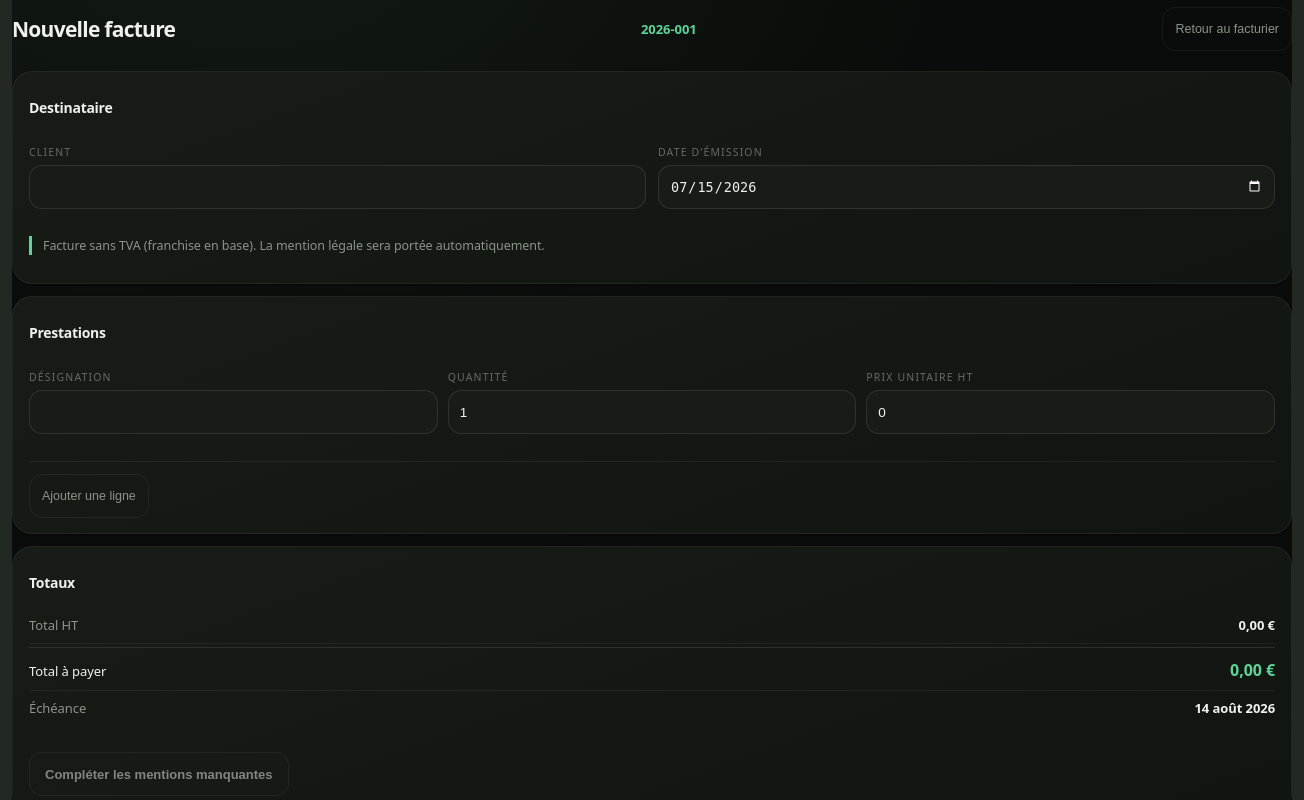
Test: mentions obligatoires › débloque l’émission dès que tout est là
The image size is (1304, 800).
In the field labelled "Client": (338, 187) [29, 165, 646, 209], type "Client France"
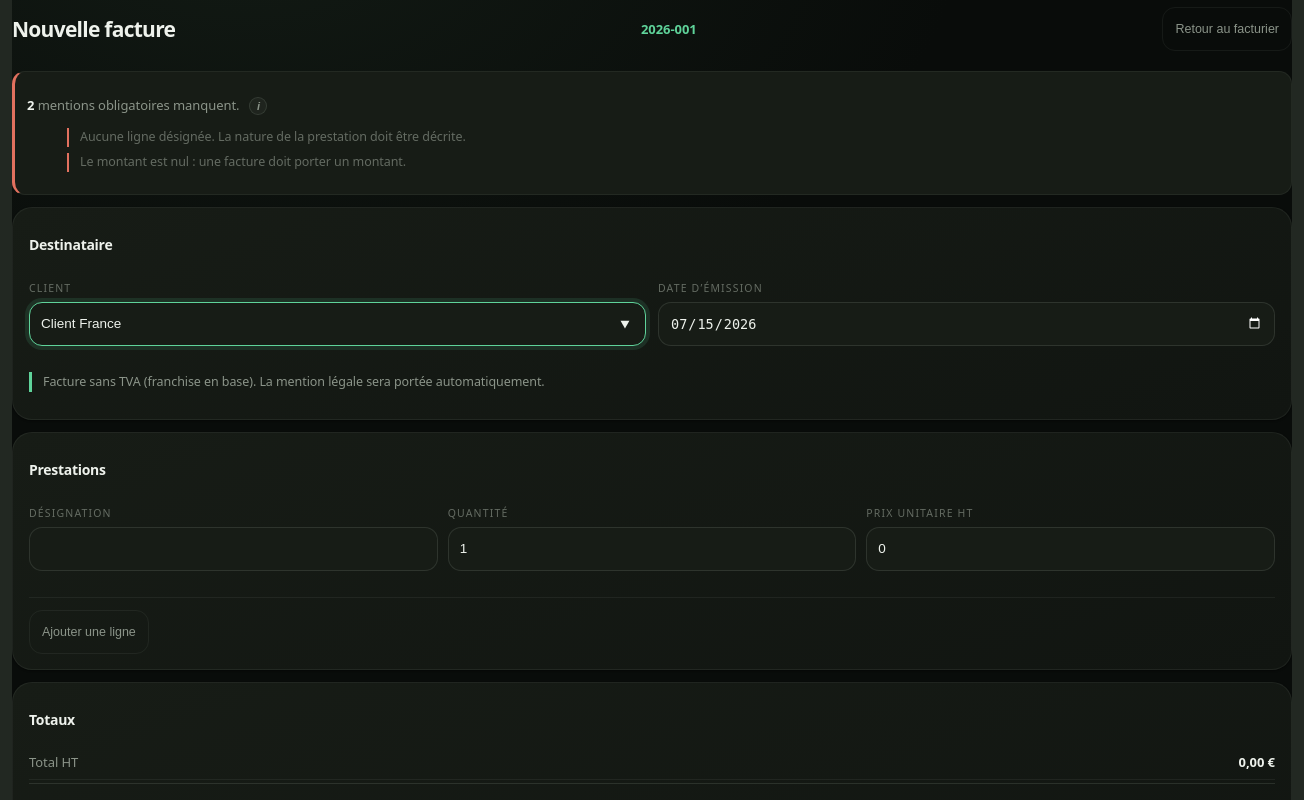
In the field labelled "Désignation": (233, 549) [29, 527, 438, 571], type "Développement"
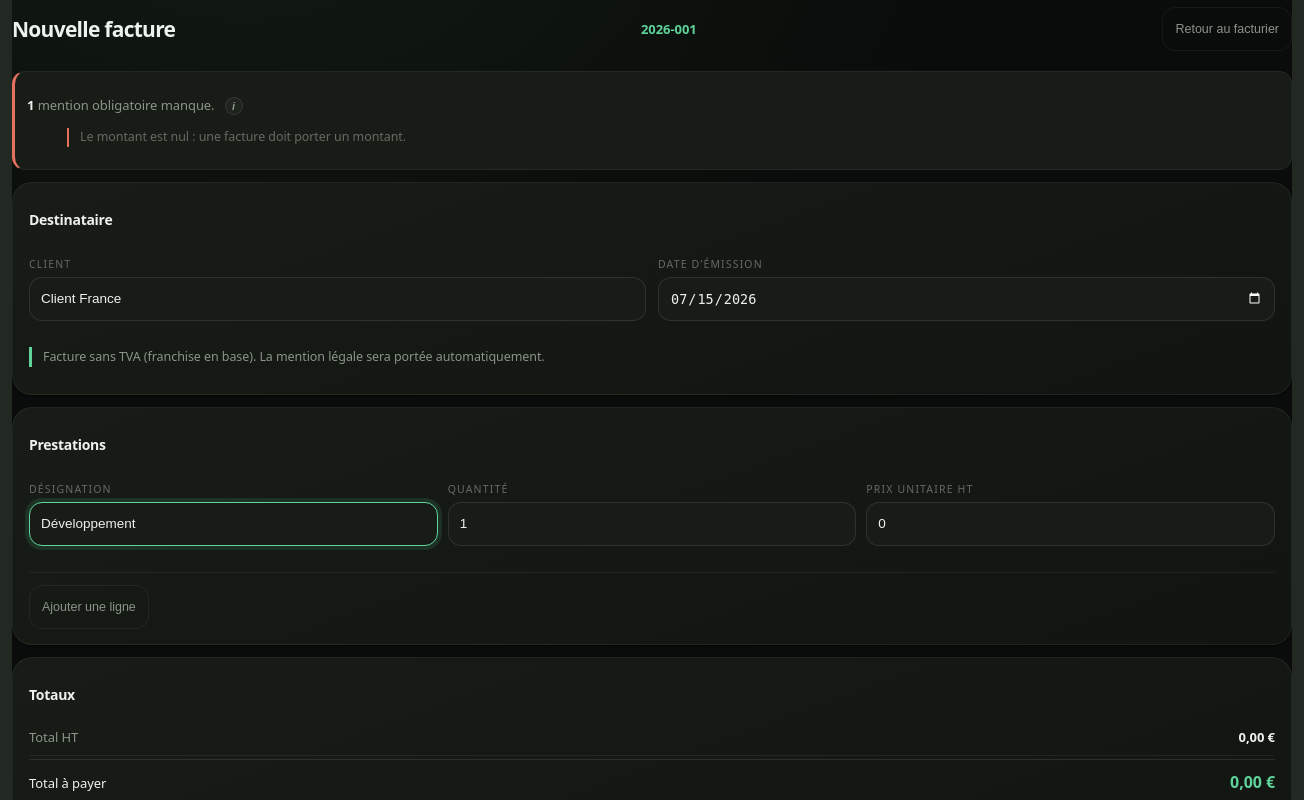
Replace the text in the field labelled "Prix unitaire HT" with "400": (1071, 524) [866, 502, 1275, 546]
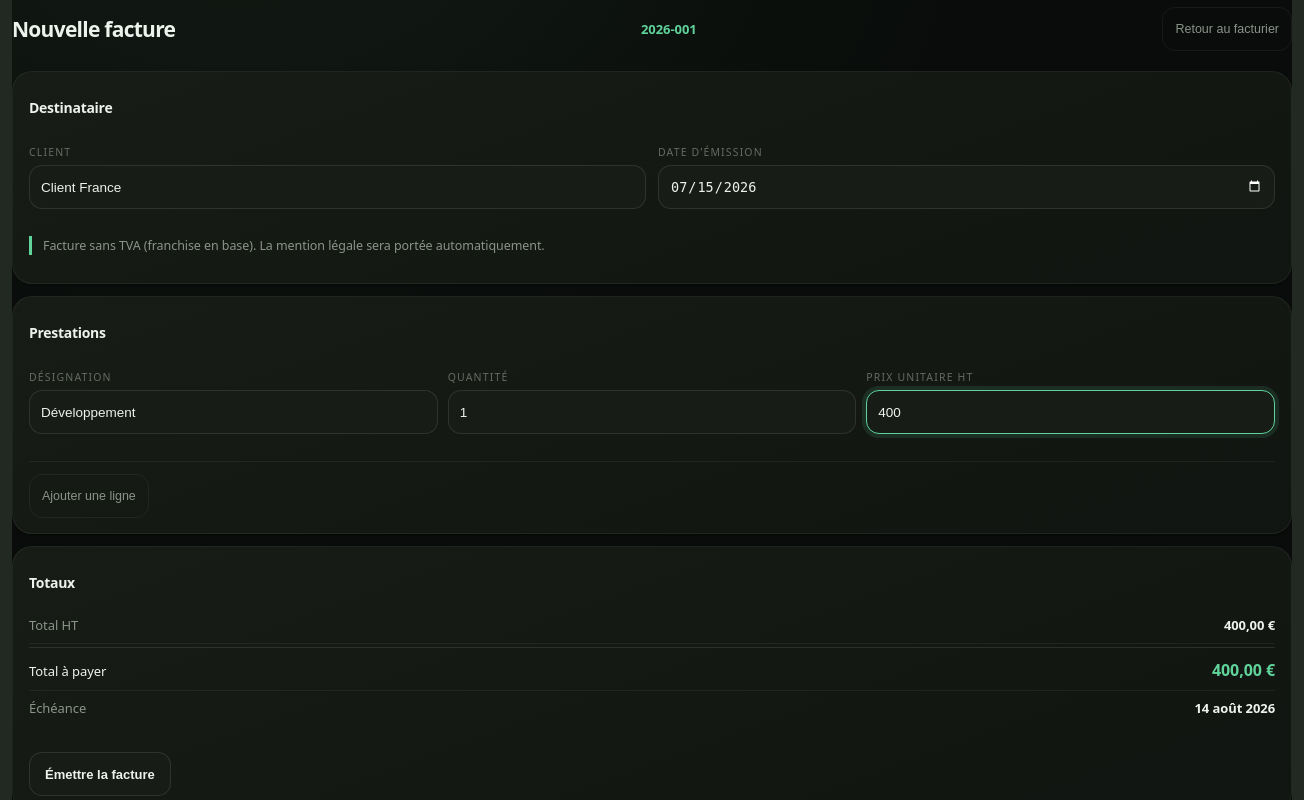
Clear the field labelled "Quantité": (652, 412) [448, 390, 856, 434]
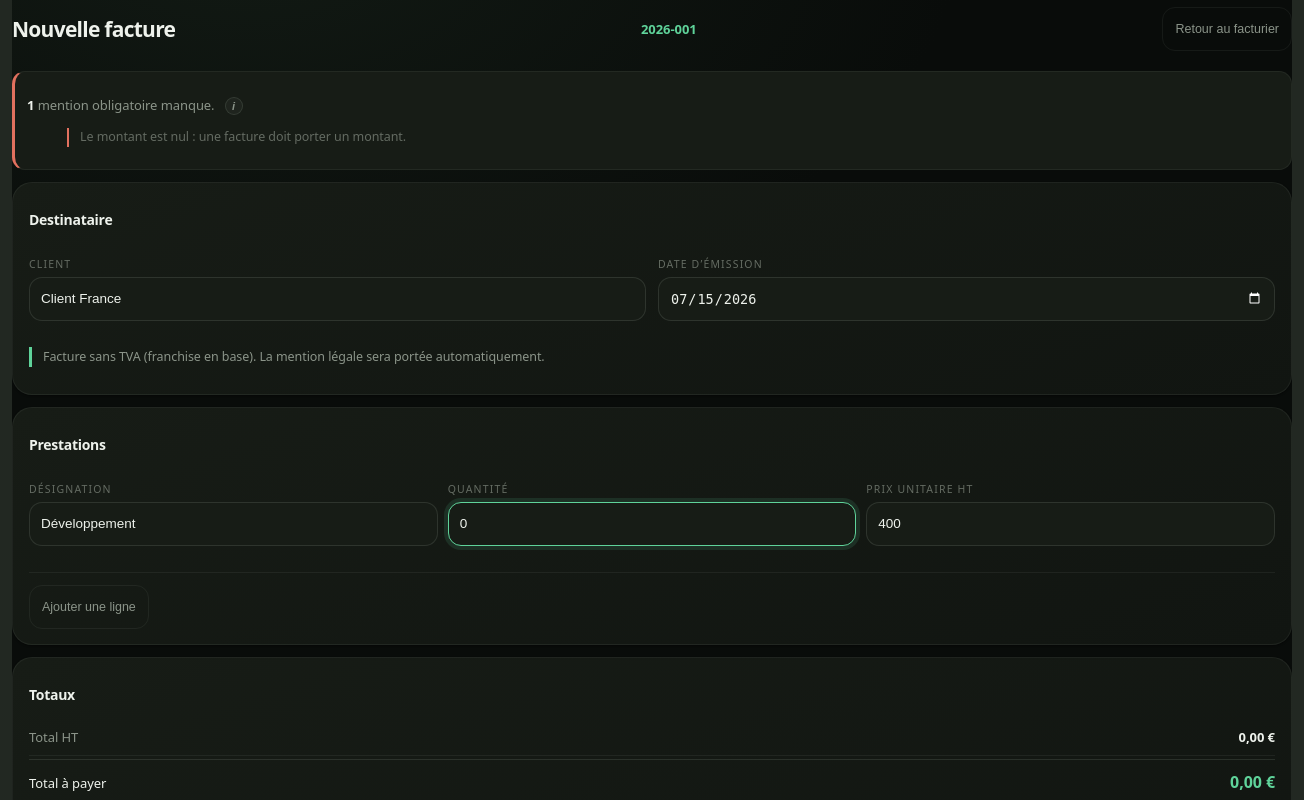
In the field labelled "Quantité": (652, 524) [448, 502, 856, 546], type "10"
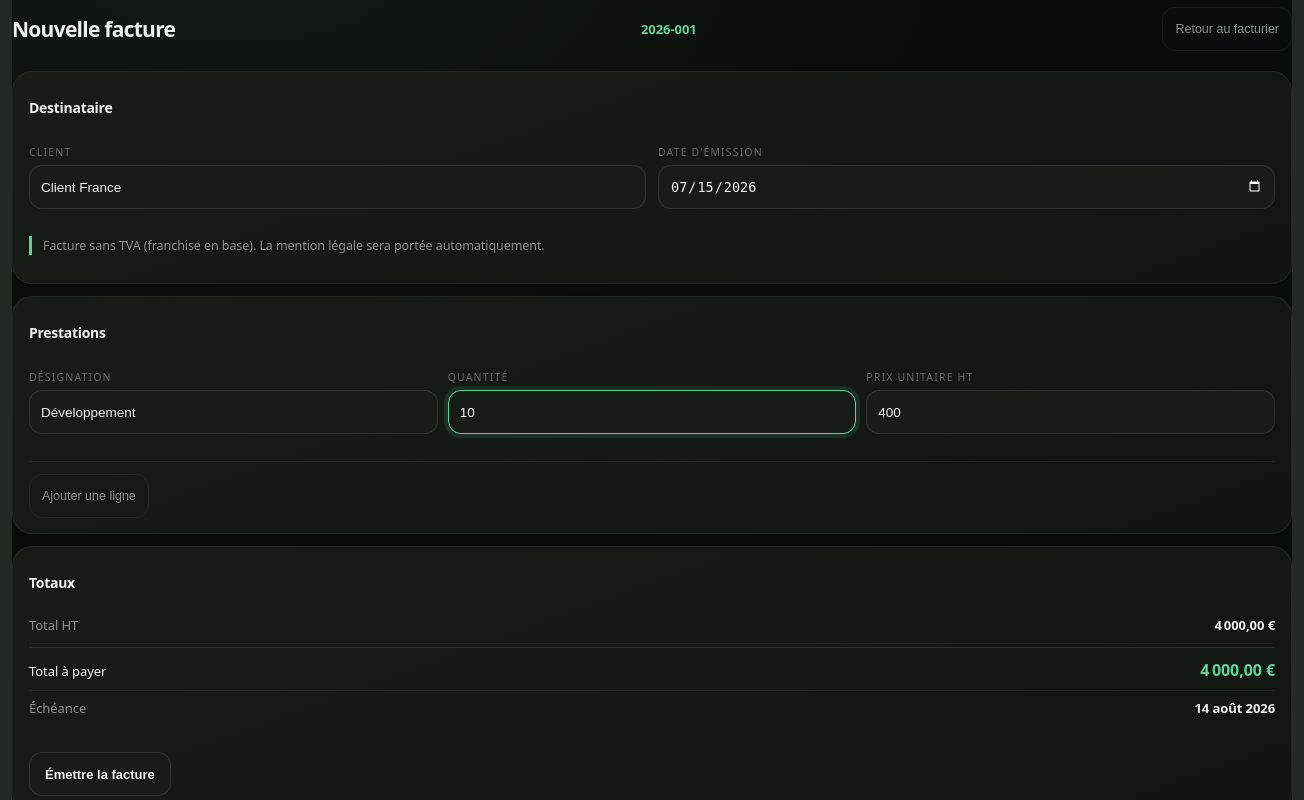
Expected: the button "Émettre la facture" is enabled, [29, 752, 171, 796]
